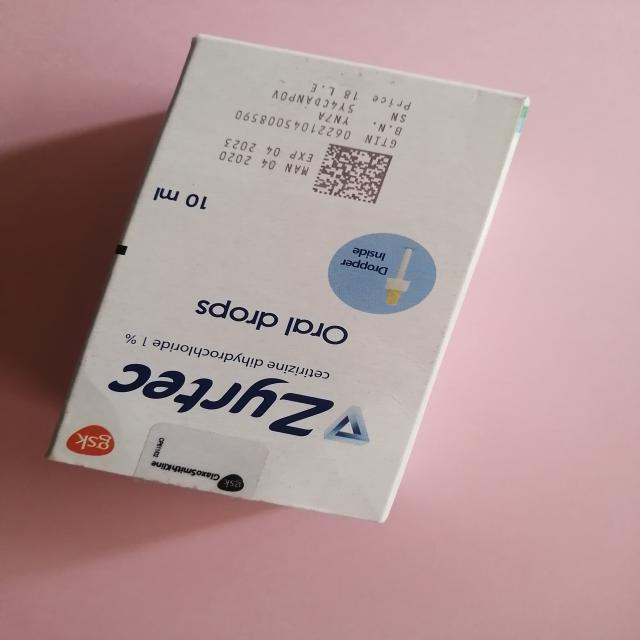Medicine: (45, 30, 533, 525)
